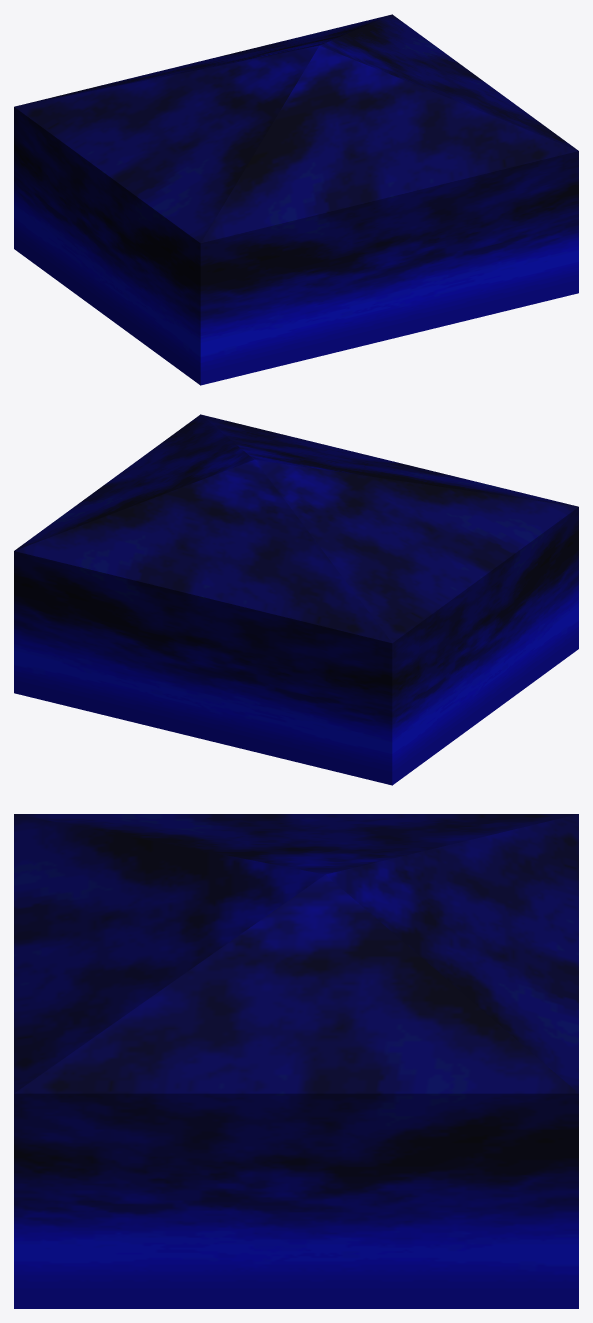
The model's file is mansion_course-mansion_course_V.glb.
3 views of the same model, one above another, from view 1: azimuth 30°, elevation 25°; view 2: azimuth 150°, elevation 25°; view 3: azimuth 270°, elevation 25° (orthographic). The views are drawn at different scales.
Parts seen in each view (by area): view 1: mansion_course_V; view 2: mansion_course_V; view 3: mansion_course_V.
Part boxes in pixels (<box>): mansion_course_V: <box>14,14,578,385</box>; mansion_course_V: <box>14,414,578,785</box>; mansion_course_V: <box>14,814,578,1308</box>.
Size of the model in its own units: 892 by 474 by 762.
2 materials, 2 textured.
